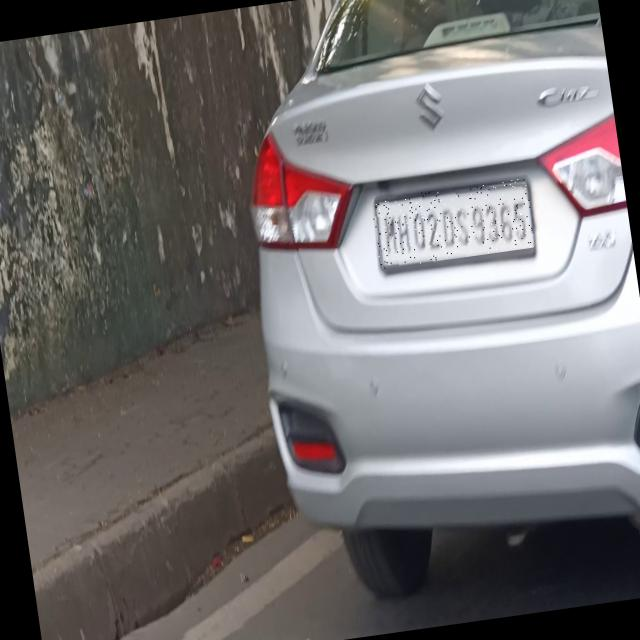Plate: (372, 179, 537, 270)
